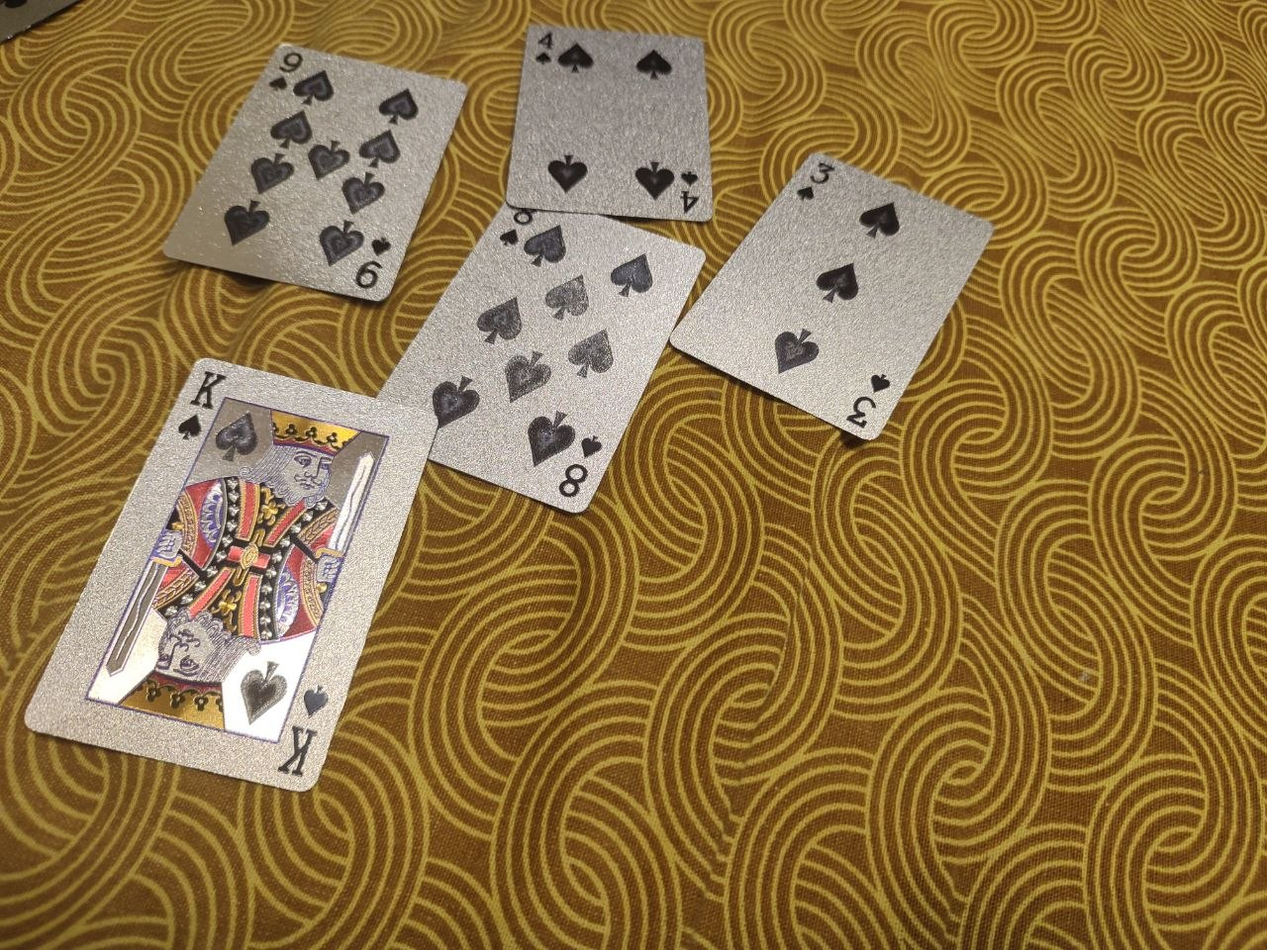3S: (669, 152, 996, 441)
4S: (506, 23, 714, 226)
8S: (376, 198, 707, 516)
9S: (164, 40, 469, 303)
KS: (25, 357, 442, 792)
